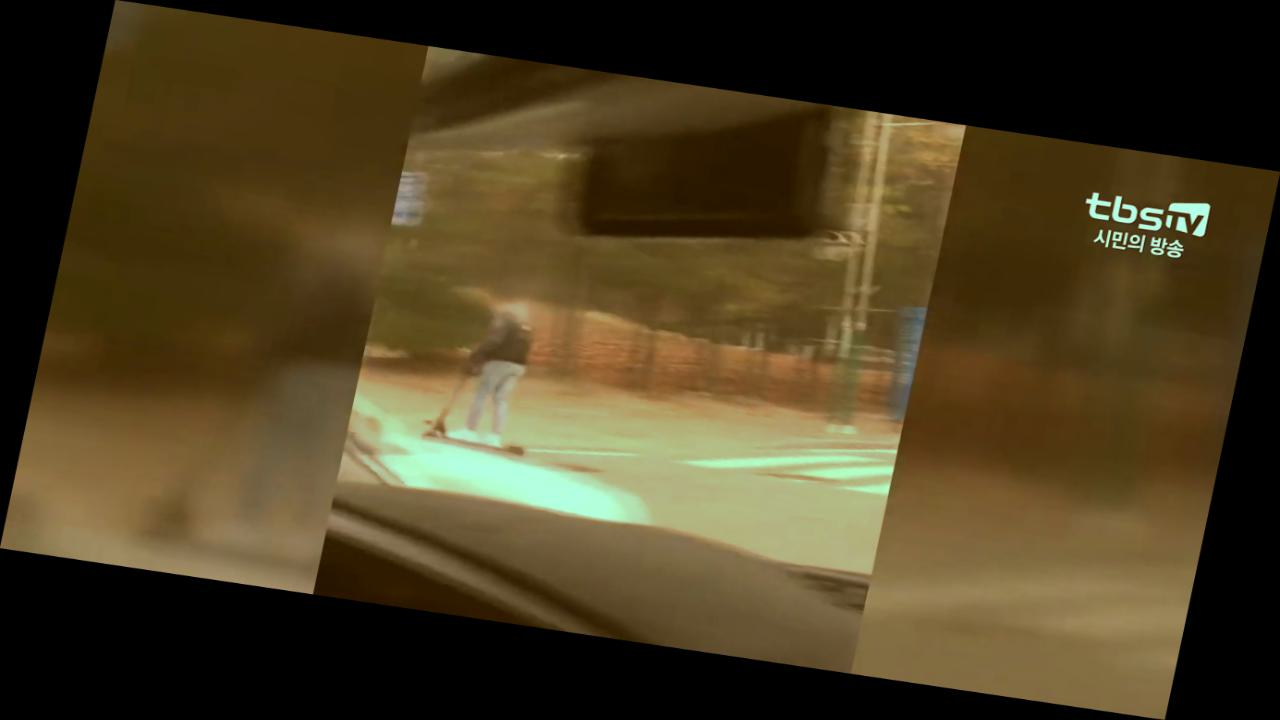nonhelmet: (419, 275, 569, 464)
